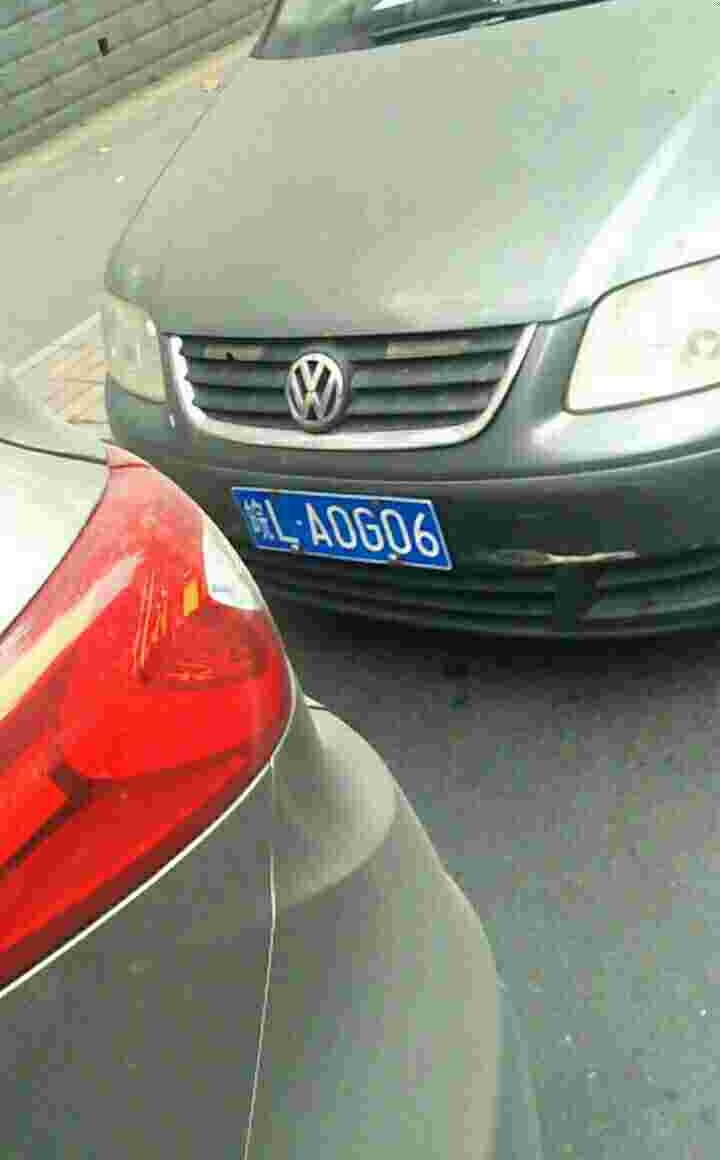plate: (224, 481, 459, 573)
